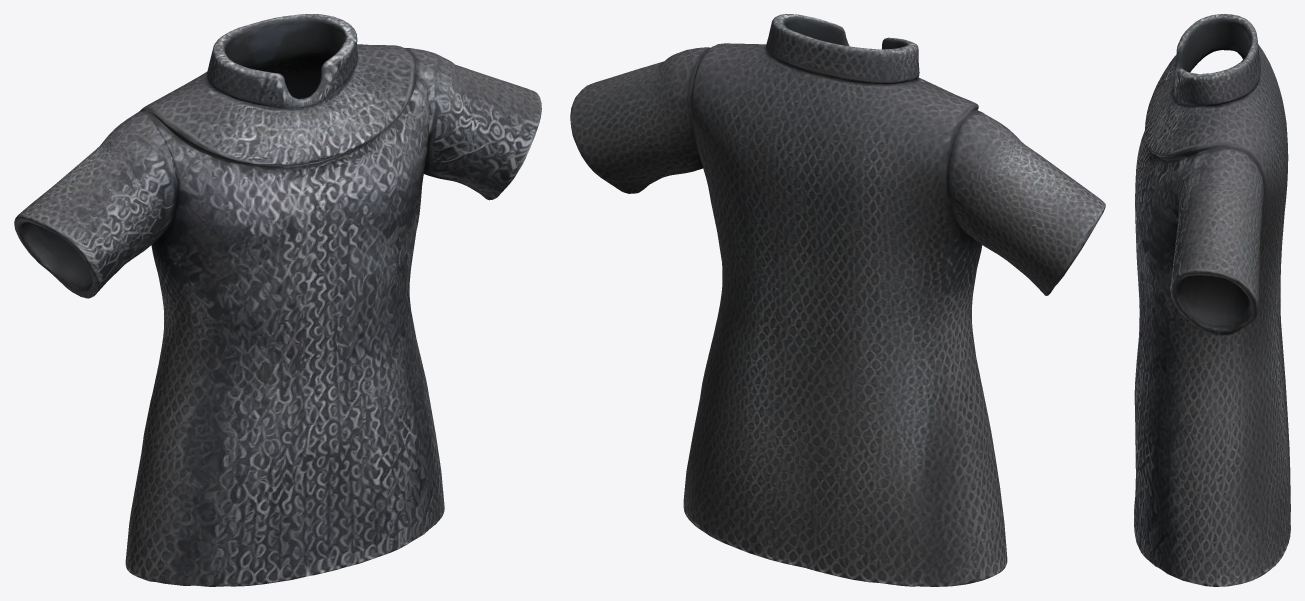
File: warrior_m_hauberk.glb
3 views of the same model, side by side, from view 1: azimuth 30°, elevation 25°; view 2: azimuth 150°, elevation 25°; view 3: azimuth 270°, elevation 25° (orthographic). The views are drawn at different scales.
Visible parts, largest first — view 1: model; view 2: model; view 3: model.
Boxes of the visible parts, x1=… form: model: x1=14, y1=14, x2=541, y2=586; model: x1=570, y1=14, x2=1105, y2=586; model: x1=1134, y1=14, x2=1290, y2=586.
Bounding box in the file's own units: 0.8892 × 0.8398 × 0.2481.
1 material, 1 textured.
